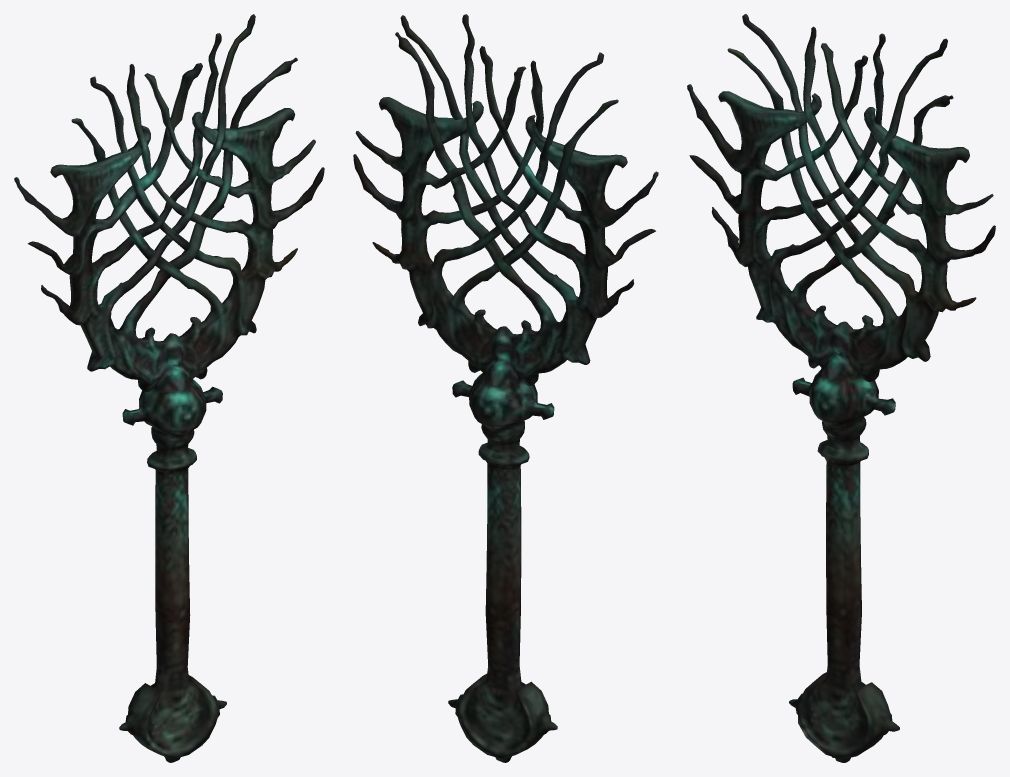
File: weapon-nith-gate.glb
3 renders of one model, left to right at view 1: azimuth 30°, elevation 25°; view 2: azimuth 150°, elevation 25°; view 3: azimuth 330°, elevation 25°, orthographic. The views are drawn at different scales.
Visible parts, largest first — view 1: wandP_MDL_q; view 2: wandP_MDL_q; view 3: wandP_MDL_q.
Part boxes in pixels (x1,y1,x2,y2): wandP_MDL_q: [14, 14, 324, 762]; wandP_MDL_q: [353, 14, 658, 762]; wandP_MDL_q: [687, 14, 995, 762].
Bounding box in the file's own units: 0.5547 × 1.26 × 0.1101.
1 material, 1 textured.
